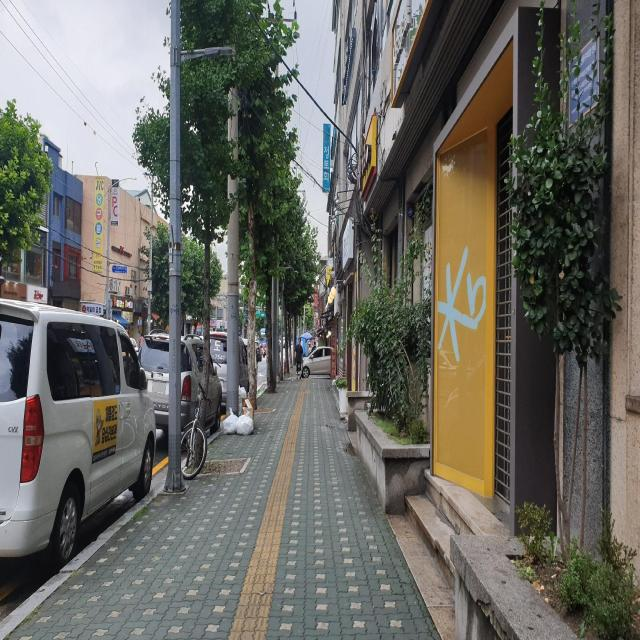bicycle ahead at: (183, 380, 215, 479)
car ahead at: (0, 291, 158, 556)
electric pole ahead at: (159, 0, 190, 497)
